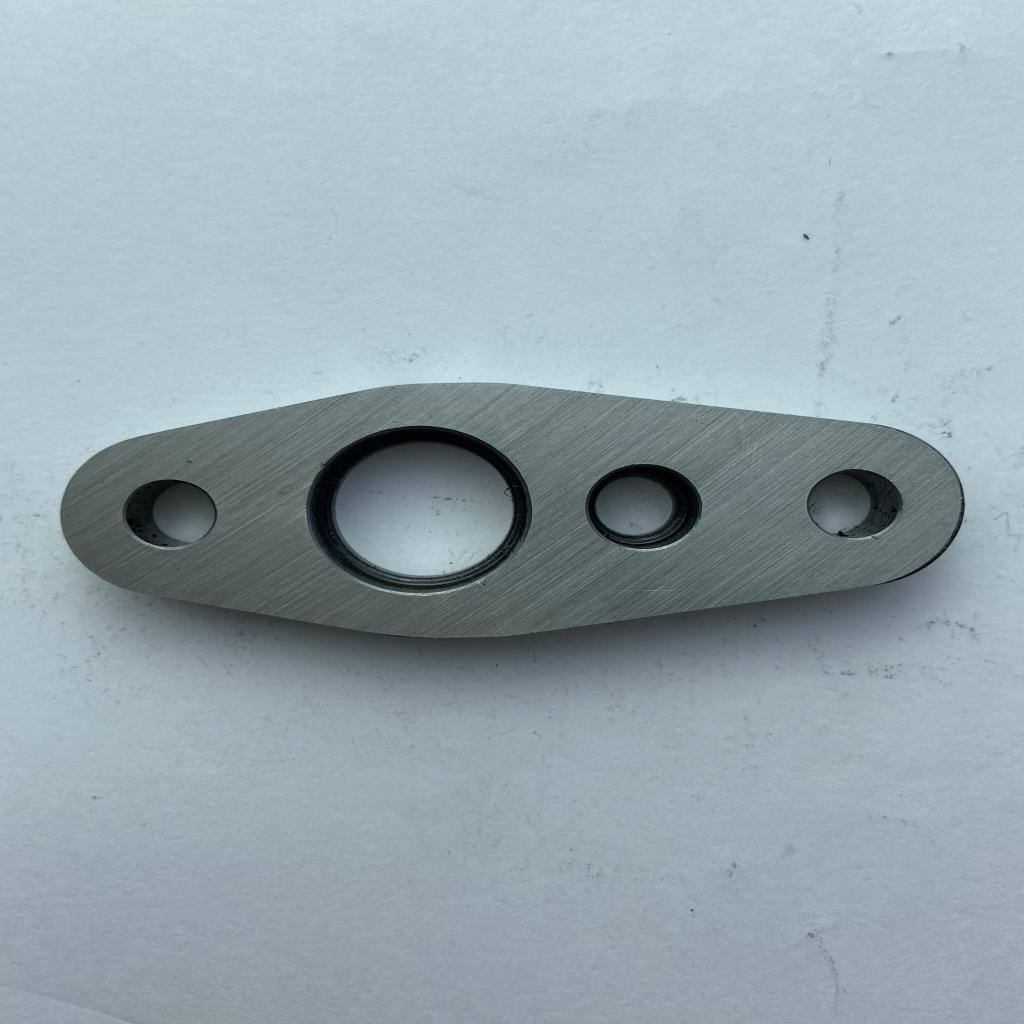chap: (182, 456, 198, 468), (476, 579, 490, 590), (315, 459, 329, 468), (956, 493, 965, 504), (870, 535, 881, 542)
